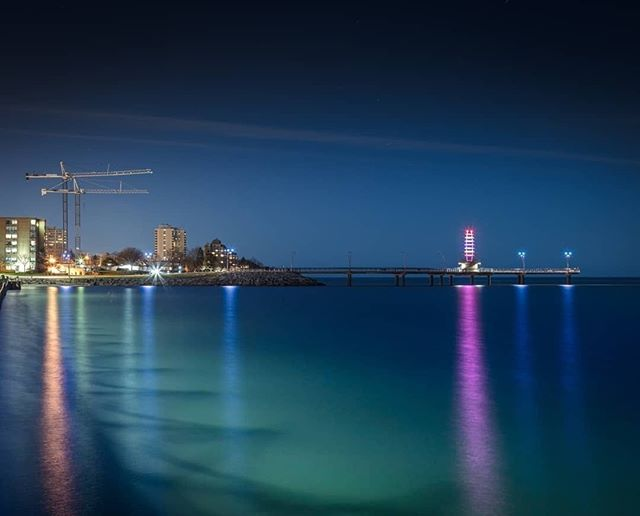bridge: (308, 251, 588, 302)
building: (1, 216, 60, 281), (145, 218, 191, 263), (201, 237, 237, 272)
crane: (25, 154, 149, 252)
river: (17, 284, 640, 516)
sky: (9, 1, 621, 259)
